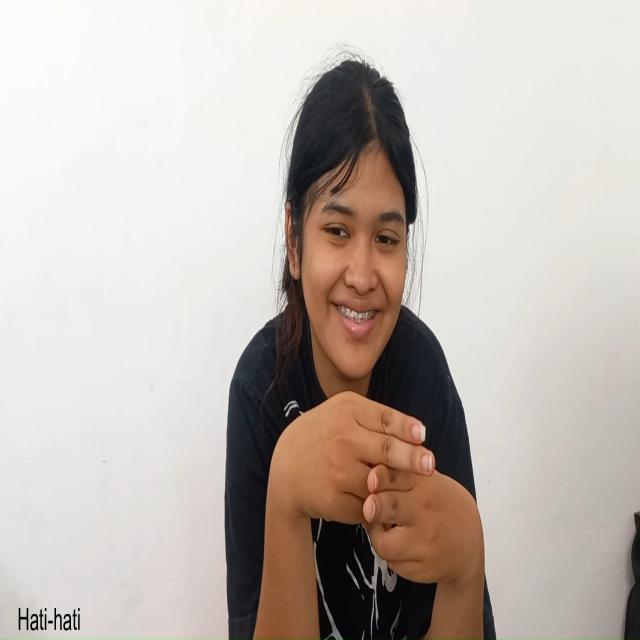Hati-hati -BISINDO-: (260, 376, 484, 612)
